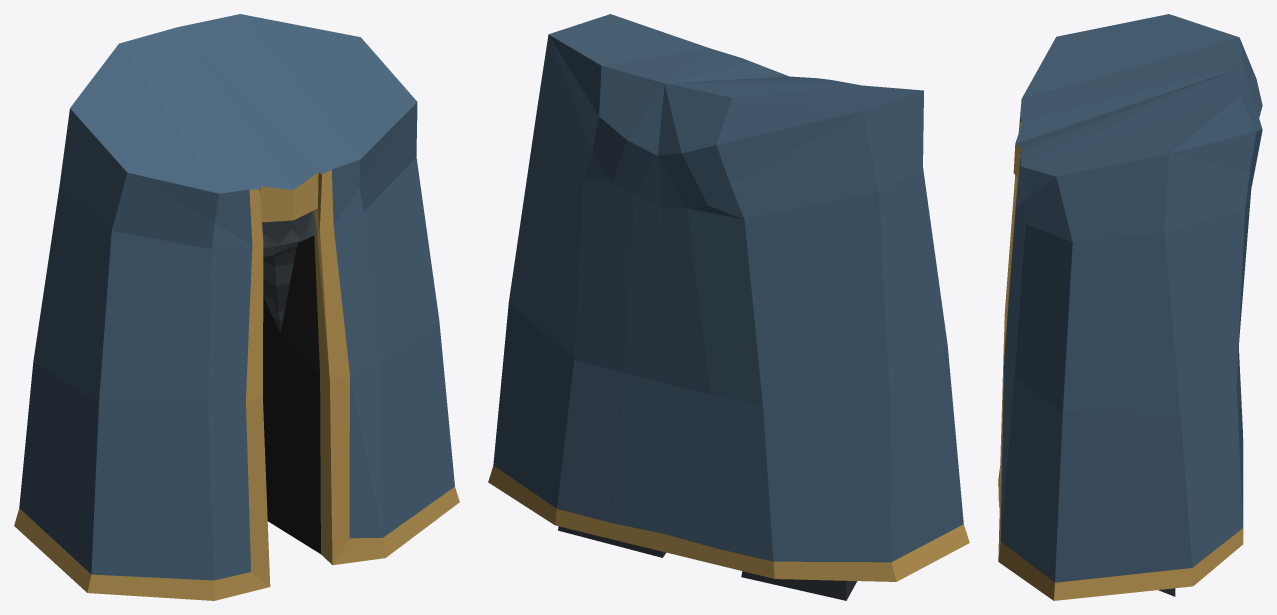
File: Chr_Hips_Female_05_Static.fbx
3 views of the same model, side by side, from view 1: azimuth 30°, elevation 25°; view 2: azimuth 150°, elevation 25°; view 3: azimuth 270°, elevation 25° (orthographic). The views are drawn at different scales.
Visible parts, largest first — view 1: Chr_Hips_Female_05_Static; view 2: Chr_Hips_Female_05_Static; view 3: Chr_Hips_Female_05_Static.
Boxes of the visible parts, x1,y1,x2,y2 form: Chr_Hips_Female_05_Static: (14,14,459,600); Chr_Hips_Female_05_Static: (488,14,969,600); Chr_Hips_Female_05_Static: (998,14,1262,600).
Size of the model in its own units: 0.4852 by 0.5806 by 0.2975.
